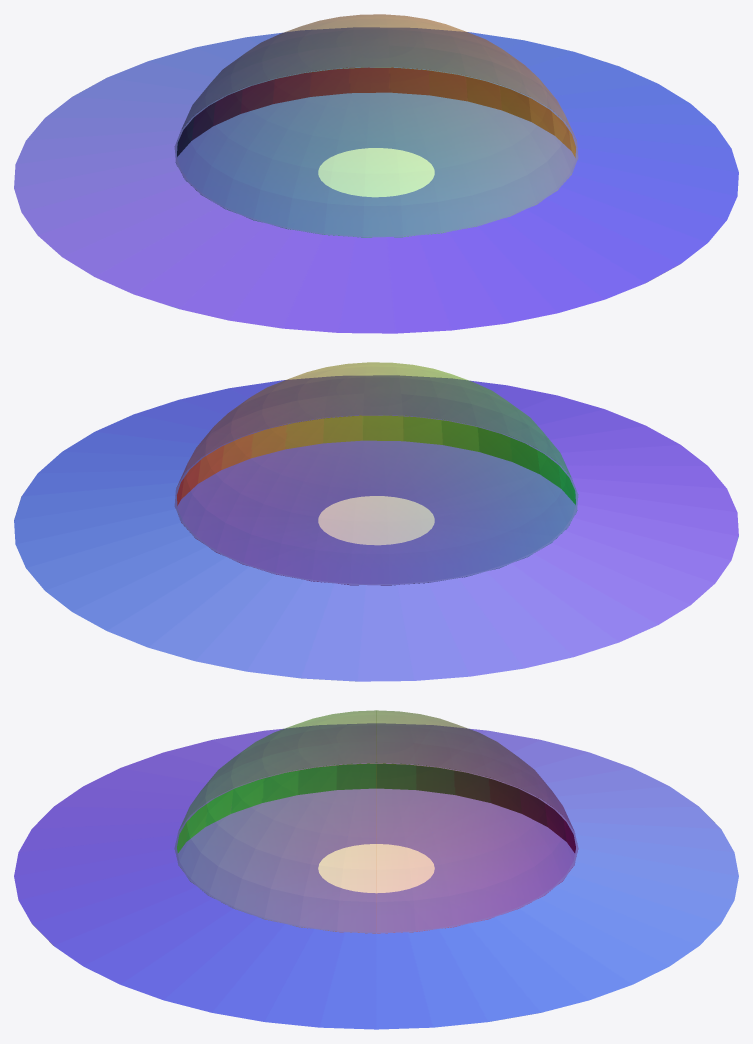
Rendered from ufo4.obj.
The picture shows the model from 3 angles, top to bottom: view 1: azimuth 30°, elevation 25°; view 2: azimuth 150°, elevation 25°; view 3: azimuth 270°, elevation 25°; orthographic projection.
Parts seen in each view (by area): view 1: Torus; view 2: Torus; view 3: Torus.
Boxes of the visible parts, box(x1,y1,x2,y2) form: Torus: box(14, 14, 738, 333); Torus: box(14, 362, 738, 681); Torus: box(14, 710, 738, 1029).
Bounding box in the file's own units: 3.52 × 0.7569 × 3.52.
2 materials, 2 textured.
